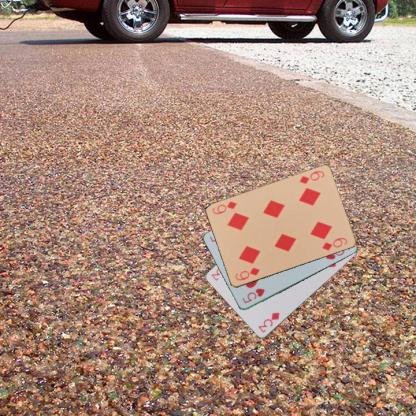3d: (255, 310, 281, 334)
5h: (240, 286, 266, 304)
6d: (297, 168, 325, 186), (232, 265, 261, 282)
